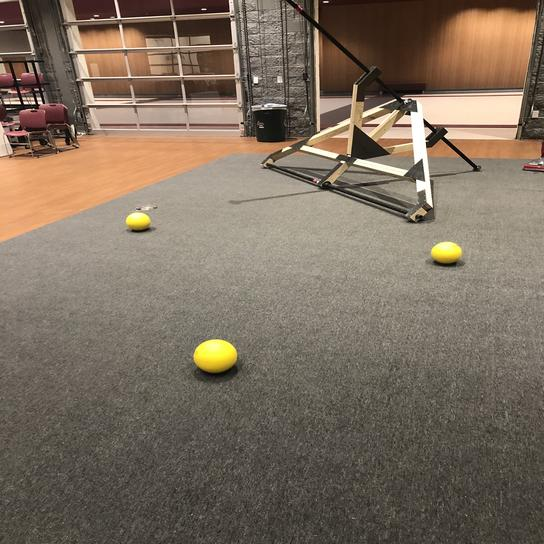ball: (190, 336, 242, 375), (429, 240, 463, 268), (124, 210, 154, 232)
